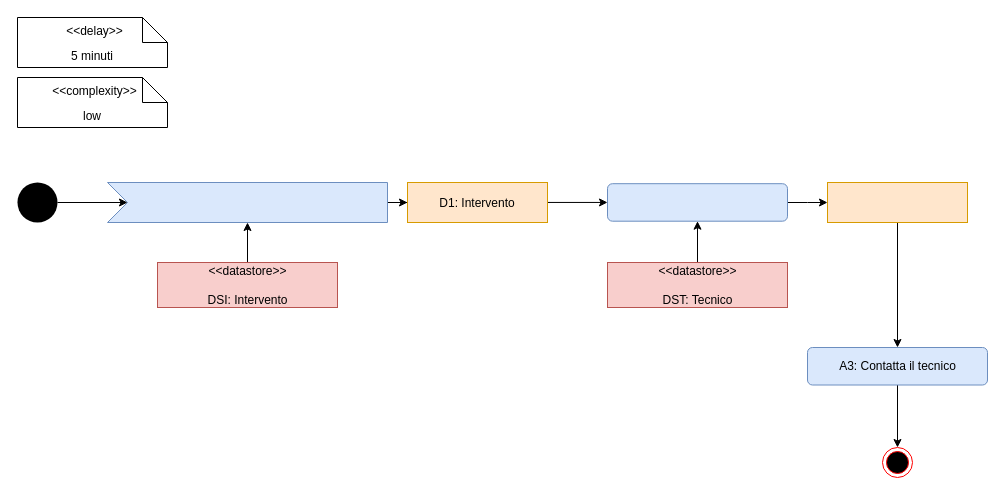
The diagram is 1005 pixels wide and 495 high, and some of its shapes have lost their labels. The shapes that lost their labels are listed below. From the top down, each one's box as (x1, y1, x2, y2) in pixels, then its label:
(106, 182, 388, 222): A1: Ricevi notifica intervento creato
(606, 183, 788, 221): A2: Recupero delle informazioni sul tecnico
(826, 182, 968, 222): D2: Tecnico
